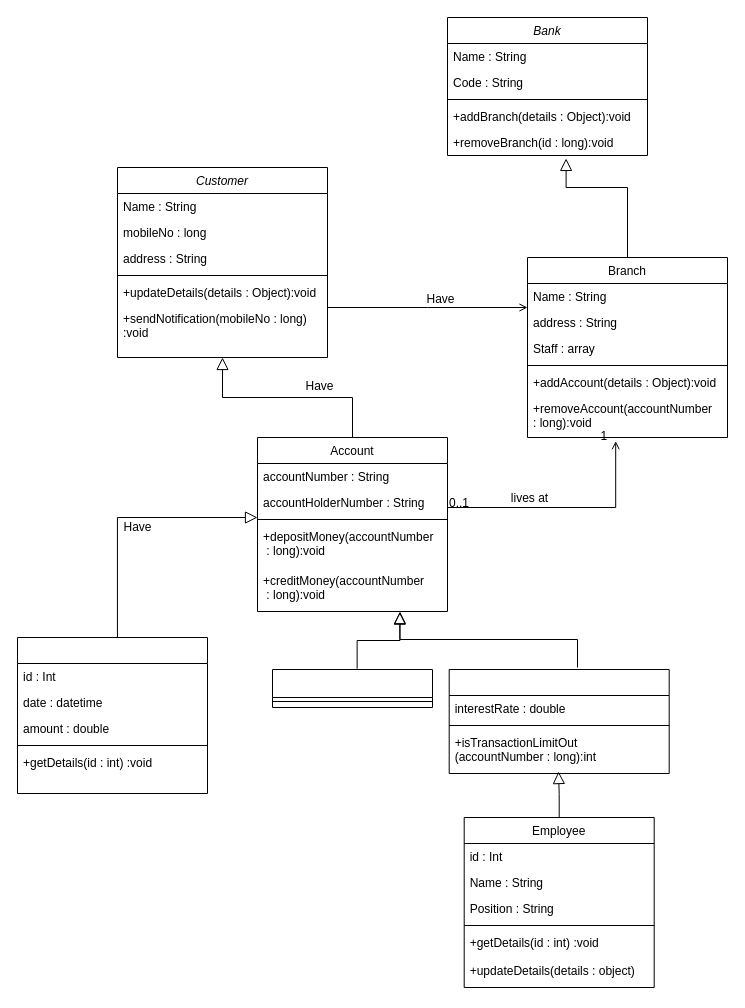
Image size: 745x1008. Some labels were removed from this diagram. The shapes that lost their labels are listed below. From the top down, each one's box as (x1, y1, x2, y2) in pixels, then its label:
(272, 668, 432, 708): CurrentAccount
(16, 636, 208, 794): Transaction
(448, 668, 669, 774): Savings account
